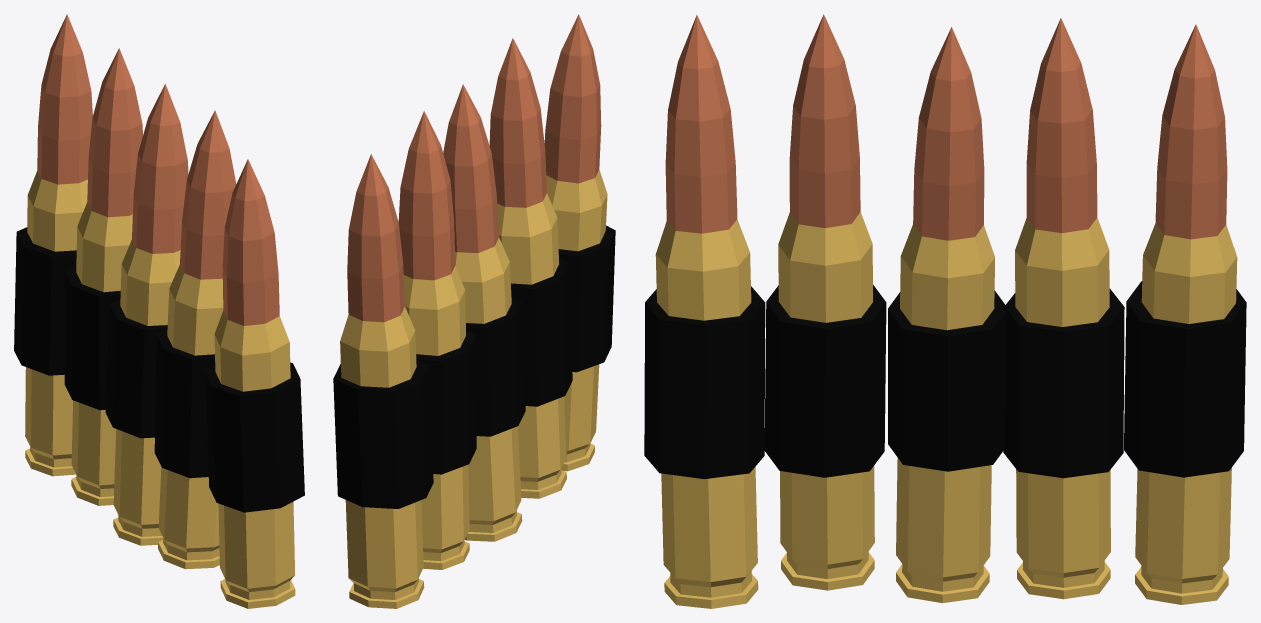
Rendered from SM_Sniper_01_Extras_Bullets.fbx.
3 views of the same model, side by side, from view 1: azimuth 30°, elevation 25°; view 2: azimuth 150°, elevation 25°; view 3: azimuth 270°, elevation 25° (orthographic). The views are drawn at different scales.
Visible parts, largest first — view 1: SM_Sniper_01_Extras_Bullets; view 2: SM_Sniper_01_Extras_Bullets; view 3: SM_Sniper_01_Extras_Bullets.
Boxes of the visible parts, x1=… form: SM_Sniper_01_Extras_Bullets: x1=14, y1=14, x2=304, y2=608; SM_Sniper_01_Extras_Bullets: x1=333, y1=14, x2=615, y2=608; SM_Sniper_01_Extras_Bullets: x1=644, y1=14, x2=1246, y2=608.
Size of the model in its own units: 1.99 by 9.58 by 9.
